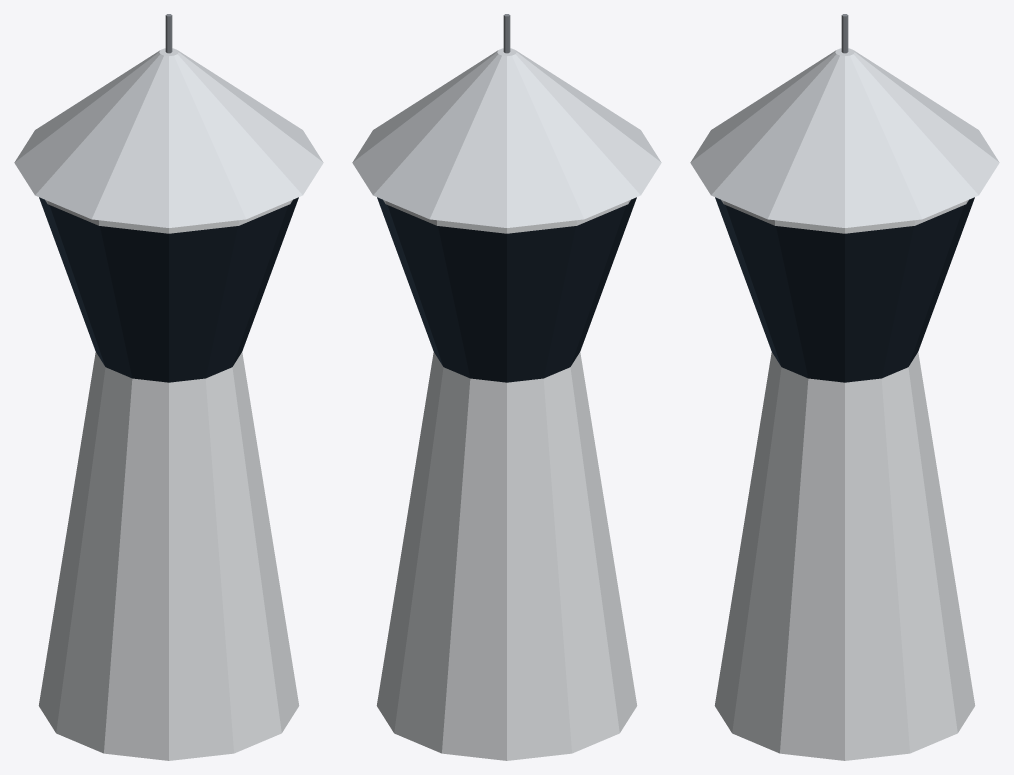
Rendered from yas-tower.glb.
The picture shows the model from 3 angles, left to right: view 1: azimuth 30°, elevation 25°; view 2: azimuth 150°, elevation 25°; view 3: azimuth 270°, elevation 25°; orthographic projection.
Parts seen in each view (by area): view 1: yas-tower; view 2: yas-tower; view 3: yas-tower.
Boxes of the visible parts, x1,y1,x2,y2 form: yas-tower: (14,14,323,760); yas-tower: (352,14,661,760); yas-tower: (690,14,999,760).
Bounding box in the file's own units: 19 × 46.8 × 19.
